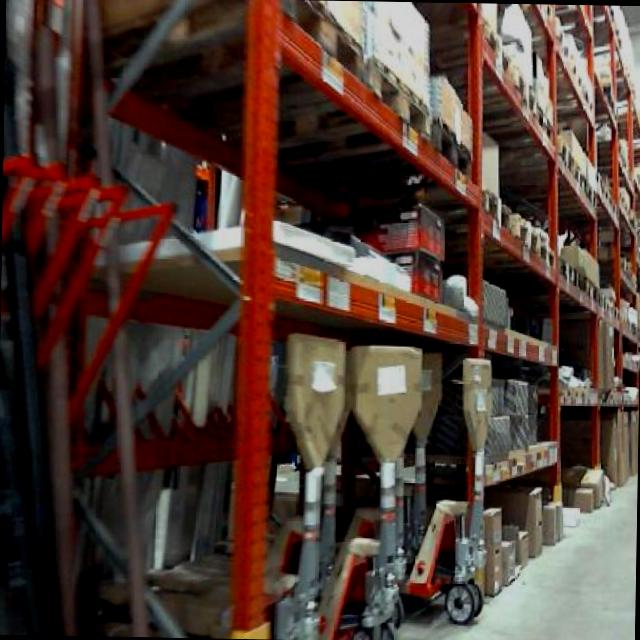pallet: (362, 41, 435, 149), (425, 95, 484, 195), (474, 180, 528, 242)
